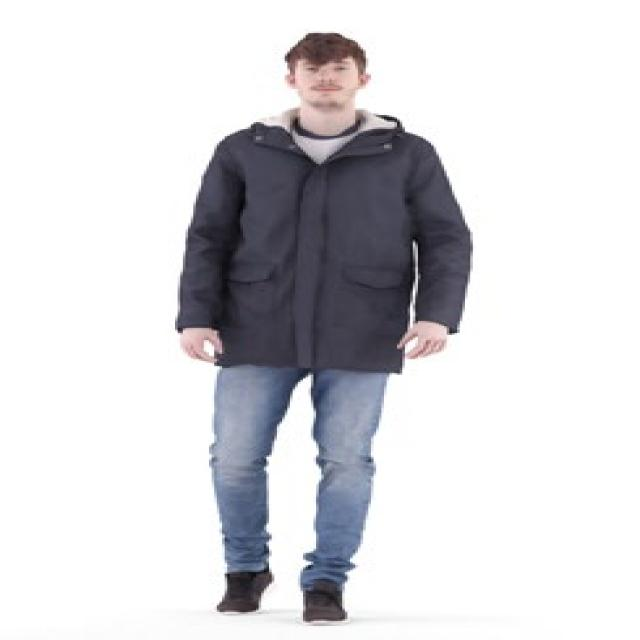standing: (171, 29, 480, 626)
